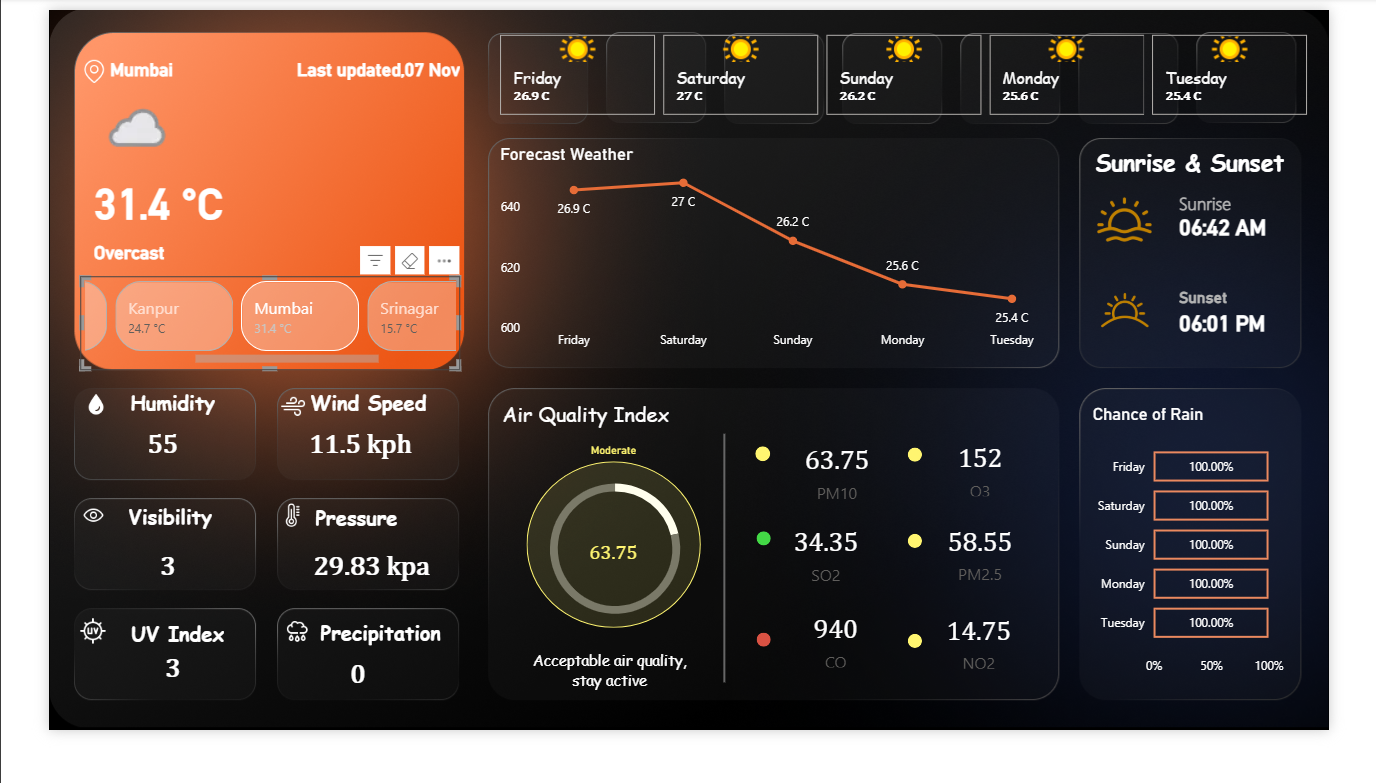

The page's visual inventory and layout, read from the dashboard file:
{"tool":"powerbi","page":{"name":"Page 1","canvas":[1280,720],"ordinal":0},"visuals":[{"type":"advancedSlicerVisual","fields":{"Values":["location.location.name"],"Label":["_measures.curr_temp_c"]},"box":[31.7,266.7,380,93.3],"z":0},{"type":"shape","box":[45,145,170,97.5],"z":1000},{"type":"shape","box":[246.7,31.7,165,58.3],"z":2000},{"type":"shape","box":[61.7,31.7,126.7,58.3],"z":3000},{"type":"image","box":[0,45,90,33.3],"z":4000},{"type":"shape","box":[45,217.5,190,50],"z":5000},{"type":"cardVisual","fields":{"Data":["Min(current.current.condition.icon)"]},"box":[31.4,61.4,108.6,97.1],"z":6000},{"type":"image","box":[11.4,488.6,65.7,32.9],"z":7000},{"type":"shape","box":[58.6,377.1,130,32.9],"z":8000},{"type":"shape","box":[64.3,488.6,130,32.9],"z":9000},{"type":"shape","box":[64.3,608.6,130,32.9],"z":10000},{"type":"shape","box":[247.1,607.1,144.3,32.9],"z":11000},{"type":"shape","box":[247.1,488.6,130,32.9],"z":12000},{"type":"shape","box":[247.1,377.1,130,32.9],"z":13000},{"type":"image","box":[15.7,378.6,61.4,31.4],"z":14000},{"type":"image","box":[8.6,602.9,70,37.1],"z":15000},{"type":"image","box":[214.3,378.6,60,35.7],"z":16000},{"type":"image","box":[214.3,488.6,60,32.9],"z":17000},{"type":"image","box":[215.7,604.3,64.3,35.7],"z":18000},{"type":"card","fields":{"Values":["Sum(current.current.humidity)"]},"box":[38.6,410,150,48.6],"z":19000},{"type":"card","fields":{"Values":["Sum(current.current.precip_in)"]},"box":[234.3,640,150,48.6],"z":20000},{"type":"card","fields":{"Values":["Sum(current.current.vis_km)"]},"box":[44.3,531.4,150,48.6],"z":21000},{"type":"card","fields":{"Values":["Sum(current.current.uv)"]},"box":[48.6,641.4,150,32.9],"z":22000},{"type":"card","fields":{"Values":["_measures.pressure"]},"box":[247.1,531.4,150,48.6],"z":23000},{"type":"advancedSlicerVisual","fields":{"Values":["forecast by day.day name"],"Label":["_measures.ForTEMP_C"]},"box":[445.7,20,820,90],"z":24000},{"type":"lineChart","title":"Forecast Weather ","fields":{"Y":["Sum(forecast by day.forecast.forecastday.day.avgtemp_c)"],"Category":["forecast by day.day name"]},"box":[445.7,134.3,565.7,214.3],"z":25000},{"type":"shape","box":[1040,135.7,201.4,41.4],"z":26000},{"type":"shape","box":[1130,168.6,111.4,48.6],"z":27000},{"type":"shape","box":[1130,264.3,111.4,48.6],"z":28000},{"type":"shape","box":[1130,192.9,111.4,48.6],"z":29000},{"type":"shape","box":[1130,288.6,111.4,48.6],"z":30000},{"type":"image","box":[1035.7,264.3,78.6,72.9],"z":31000},{"type":"image","box":[1035.7,177.1,78.6,64.3],"z":32000},{"type":"hundredPercentStackedBarChart","title":"Chance of Rain ","fields":{"Y":["Sum(forecast by day.forecast.forecastday.day.daily_chance_of_rain)","_measures.LEFT VALUE RAIN"],"Category":["forecast by day.day name"]},"box":[1039,394,201,280],"z":33000},{"type":"shape","box":[445.7,390,181.4,40],"z":34000},{"type":"card","fields":{"Values":["_measures.wind_speed"]},"box":[236.7,410,150,48.3],"z":35000},{"type":"card","fields":{"Values":["Sum(current.current.air_quality.pm2_5)"]},"box":[873.3,505,115,75],"z":37000},{"type":"card","fields":{"Values":["Sum(current.current.air_quality.o3)"]},"box":[873.3,426.7,115,65],"z":38000},{"type":"card","fields":{"Values":["Sum(current.current.air_quality.so2)"]},"box":[721.7,506.7,111.7,73.3],"z":39000},{"type":"card","fields":{"Values":["Sum(current.current.air_quality.no2)"]},"box":[872.5,598.8,115,65],"z":40000},{"type":"card","fields":{"Values":["Sum(current.current.air_quality.co)"]},"box":[728.8,597.5,116.2,65],"z":41000},{"type":"card","fields":{"Values":["Sum(current.current.air_quality.pm10)"]},"box":[731.2,426.2,113.8,68.8],"z":42000},{"type":"shape","box":[706.7,436.7,15,15],"z":43000},{"type":"shape","box":[707.1,622.9,14.3,14.3],"z":43002},{"type":"shape","box":[707.1,521.4,14.3,14.3],"z":43003},{"type":"shape","box":[858.6,524.3,14.3,14.3],"z":43004},{"type":"shape","box":[858.6,437.1,14.3,14.3],"z":43005},{"type":"shape","box":[858.6,624.3,14.3,14.3],"z":43006},{"type":"shape","box":[627.1,424.3,95.7,248.6],"z":43007},{"type":"card","fields":{"Values":["Sum(current.current.air_quality.pm10)"]},"box":[507.1,508.6,114.3,68.6],"z":43009},{"type":"donutChart","fields":{"Y":["Sum(current.current.air_quality.pm10)","MEASURE.left value PM10"]},"box":[455.7,452.9,220,172.9],"z":43010},{"type":"shape","box":[477.1,434.3,174.3,184.3],"z":43011},{"type":"shape","box":[470,640,181.4,40],"z":43012}]}

Visuals, with their boxes in screenshot pixels (x1, y1, x2, y2), scaled from the page's 1280x720 canvas onto the 1376x783 screenshot:
advancedSlicerVisual - location.location.name x _measures.curr_temp_c: left=34, top=290, right=443, bottom=391
shape: left=48, top=158, right=231, bottom=264
shape: left=265, top=34, right=443, bottom=98
shape: left=66, top=34, right=203, bottom=98
image: left=0, top=49, right=97, bottom=85
shape: left=48, top=237, right=253, bottom=291
cardVisual - Min(current.current.condition.icon): left=34, top=67, right=150, bottom=172
image: left=12, top=531, right=83, bottom=567
shape: left=63, top=410, right=203, bottom=446
shape: left=69, top=531, right=209, bottom=567
shape: left=69, top=662, right=209, bottom=698
shape: left=266, top=660, right=421, bottom=696
shape: left=266, top=531, right=405, bottom=567
shape: left=266, top=410, right=405, bottom=446
image: left=17, top=412, right=83, bottom=446
image: left=9, top=656, right=84, bottom=696
image: left=230, top=412, right=295, bottom=451
image: left=230, top=531, right=295, bottom=567
image: left=232, top=657, right=301, bottom=696
card - Sum(current.current.humidity): left=41, top=446, right=203, bottom=499
card - Sum(current.current.precip_in): left=252, top=696, right=413, bottom=749
card - Sum(current.current.vis_km): left=48, top=578, right=209, bottom=631
card - Sum(current.current.uv): left=52, top=698, right=213, bottom=733
card - _measures.pressure: left=266, top=578, right=427, bottom=631
advancedSlicerVisual - forecast by day.day name x _measures.ForTEMP_C: left=479, top=22, right=1361, bottom=120
"Forecast Weather " lineChart: left=479, top=146, right=1087, bottom=379
shape: left=1118, top=148, right=1335, bottom=193
shape: left=1215, top=183, right=1335, bottom=236
shape: left=1215, top=287, right=1335, bottom=340
shape: left=1215, top=210, right=1335, bottom=263
shape: left=1215, top=314, right=1335, bottom=367
image: left=1113, top=287, right=1198, bottom=367
image: left=1113, top=193, right=1198, bottom=263
"Chance of Rain " hundredPercentStackedBarChart: left=1117, top=428, right=1333, bottom=733
shape: left=479, top=424, right=674, bottom=468
card - _measures.wind_speed: left=254, top=446, right=416, bottom=498
card - Sum(current.current.air_quality.pm2_5): left=939, top=549, right=1062, bottom=631
card - Sum(current.current.air_quality.o3): left=939, top=464, right=1062, bottom=535
card - Sum(current.current.air_quality.so2): left=776, top=551, right=896, bottom=631
card - Sum(current.current.air_quality.no2): left=938, top=651, right=1062, bottom=722
card - Sum(current.current.air_quality.co): left=783, top=650, right=908, bottom=720
card - Sum(current.current.air_quality.pm10): left=786, top=463, right=908, bottom=538
shape: left=760, top=475, right=776, bottom=491
shape: left=760, top=677, right=776, bottom=693
shape: left=760, top=567, right=776, bottom=583
shape: left=923, top=570, right=938, bottom=586
shape: left=923, top=475, right=938, bottom=491
shape: left=923, top=679, right=938, bottom=694
shape: left=674, top=461, right=777, bottom=732
card - Sum(current.current.air_quality.pm10): left=545, top=553, right=668, bottom=628
donutChart - Sum(current.current.air_quality.pm10) x MEASURE.left value PM10: left=490, top=493, right=726, bottom=681
shape: left=513, top=472, right=700, bottom=673
shape: left=505, top=696, right=700, bottom=739
